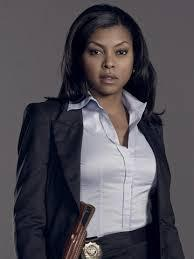Persons: (54, 2, 156, 111)
